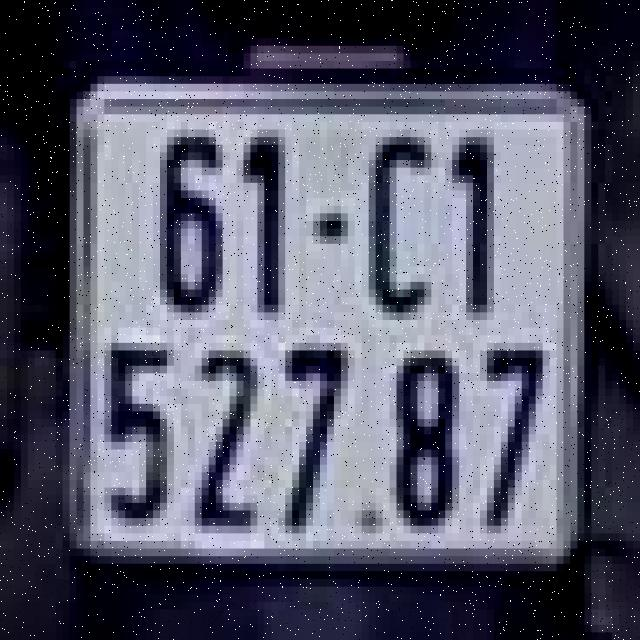1: (240, 122, 303, 335), (445, 126, 508, 331)
2: (181, 336, 264, 534)
5: (97, 335, 174, 541)
6: (153, 114, 230, 320)
7: (470, 320, 553, 556), (282, 339, 358, 530)
8: (383, 347, 466, 537)
C: (358, 114, 442, 320)
